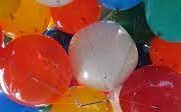Balloon: (1, 34, 71, 105), (68, 21, 138, 90), (121, 65, 181, 112)
